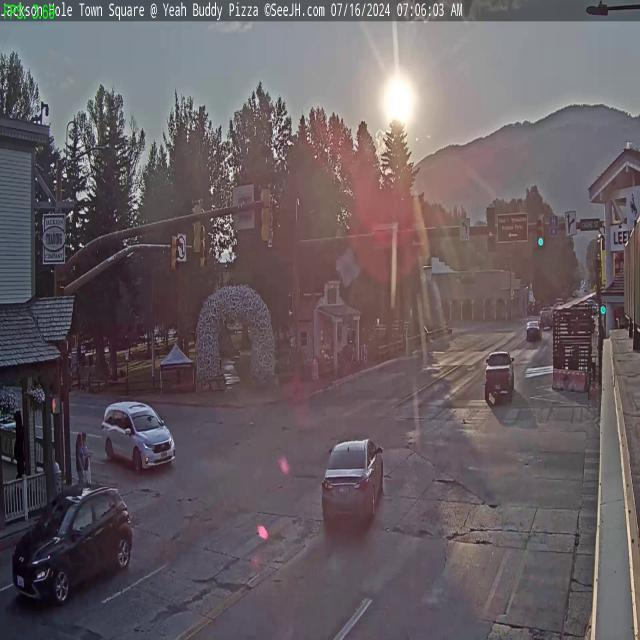person: (80, 424, 92, 496), (74, 430, 84, 490)
pickup: (484, 350, 514, 404)
sedan: (320, 436, 386, 534)
suv: (10, 482, 134, 608), (102, 396, 177, 474), (524, 320, 542, 340)
traffic light: (260, 183, 274, 246), (190, 200, 203, 256), (486, 206, 496, 252), (536, 214, 546, 248)
